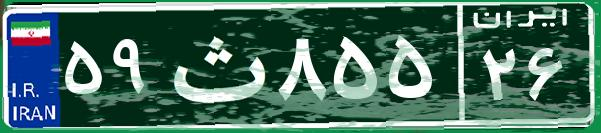2: (475, 38, 525, 113)
5: (385, 28, 445, 110), (330, 28, 385, 110), (57, 26, 110, 107)
6: (525, 38, 570, 115)
8: (273, 28, 330, 110)
9: (110, 28, 158, 105)
ث: (158, 15, 273, 115)
